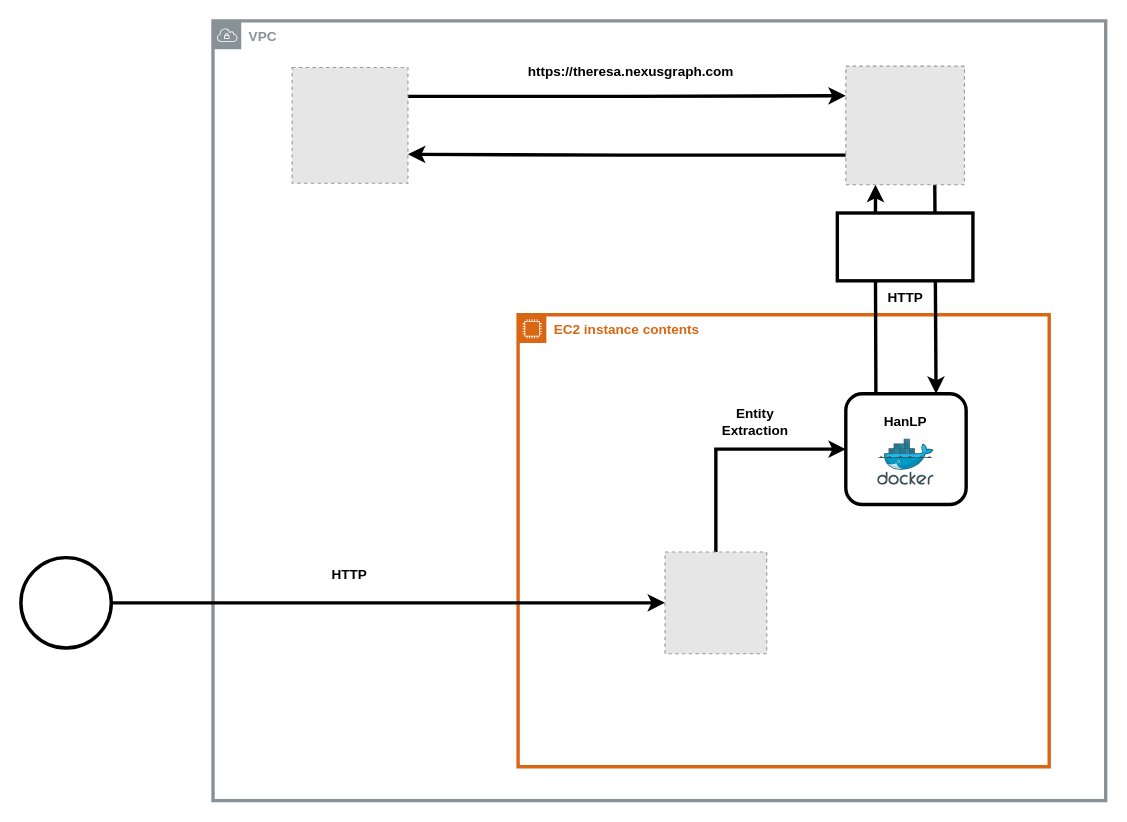
Image size: 1127x822. Some labels were removed from this diagram. Grey dashed boxes stand in for pictures. The shapes that lost their labels are listed below. From the top down, each one's centre as x and y in pixels, then its label:
the point at 904,246: Service Discovery
the point at 65,602: Personal Research
